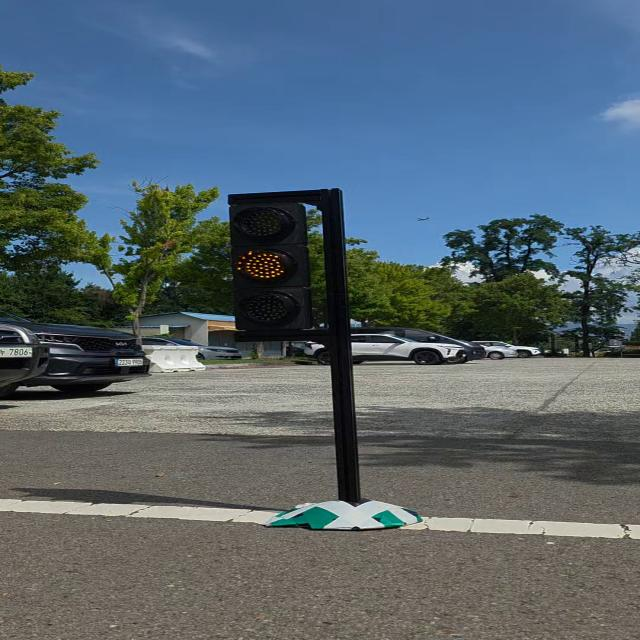yellow: (225, 194, 323, 339)
